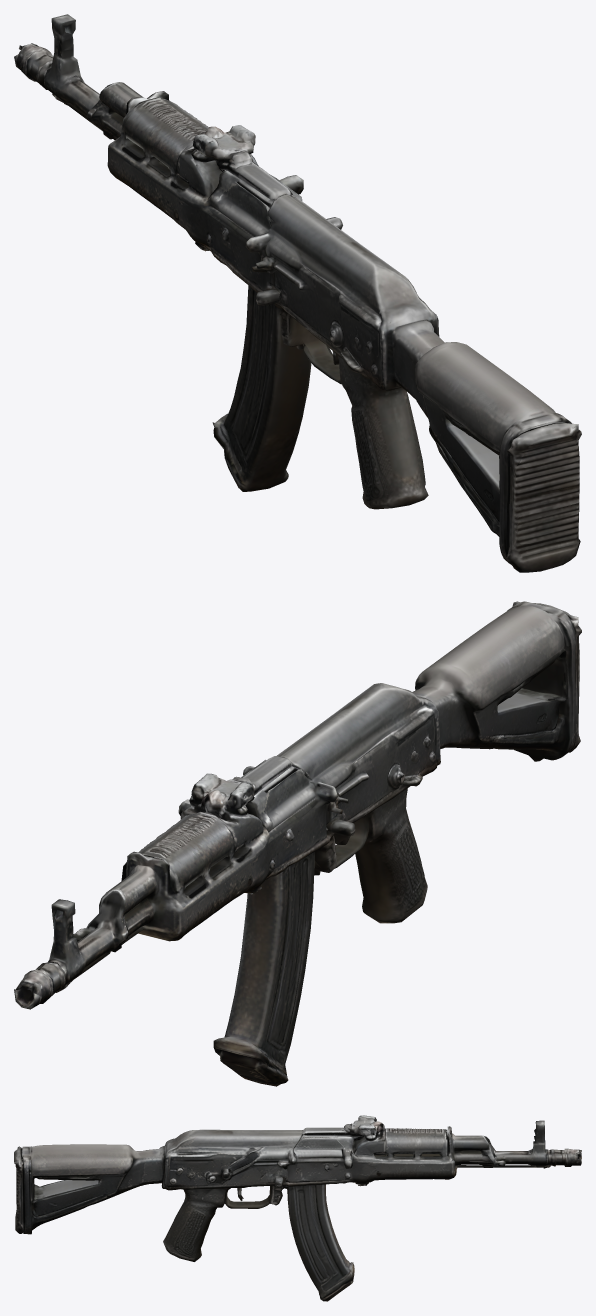
3 renders of one model, top to bottom at view 1: azimuth 30°, elevation 25°; view 2: azimuth 150°, elevation 25°; view 3: azimuth 270°, elevation 25°, orthographic. The views are drawn at different scales.
Visible parts, largest first — view 1: tripo_node_25149aee-1a99-4b4f-b6f4-936dabe8a874; view 2: tripo_node_25149aee-1a99-4b4f-b6f4-936dabe8a874; view 3: tripo_node_25149aee-1a99-4b4f-b6f4-936dabe8a874.
Part boxes in pixels (bbox=[...]): tripo_node_25149aee-1a99-4b4f-b6f4-936dabe8a874: bbox=[14, 14, 581, 572]; tripo_node_25149aee-1a99-4b4f-b6f4-936dabe8a874: bbox=[14, 601, 581, 1086]; tripo_node_25149aee-1a99-4b4f-b6f4-936dabe8a874: bbox=[14, 1115, 581, 1301].
Bounding box in the file's own units: 0.1195 × 0.3396 × 0.9853.
1 material, 1 textured.
